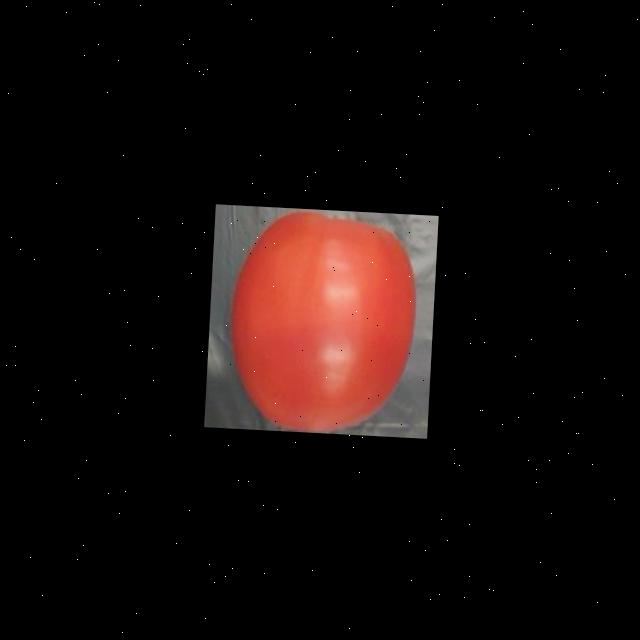tomato: (220, 204, 421, 436)
